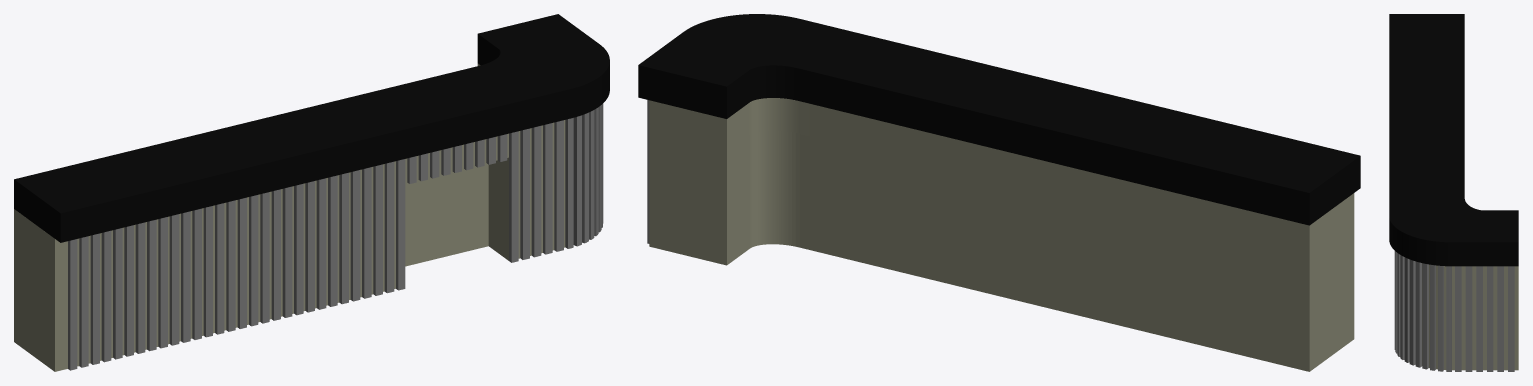
File: information desk _wheelchair space.FBX
3 renders of one model, left to right at view 1: azimuth 30°, elevation 25°; view 2: azimuth 150°, elevation 25°; view 3: azimuth 270°, elevation 25°, orthographic. The views are drawn at different scales.
Visible parts, largest first — view 1: Line221, Line222, Line220; view 2: Line220, Line222; view 3: Line222, Line221, Line220.
Part boxes in pixels (box(x1,y1,x2,y2)): Line221: box(68, 103, 603, 370); Line222: box(14, 14, 609, 242); Line220: box(14, 63, 565, 371); Line220: box(649, 98, 1354, 371); Line222: box(638, 14, 1360, 225); Line222: box(1389, 14, 1518, 266); Line221: box(1394, 251, 1514, 371); Line220: box(1422, 263, 1518, 370).
Size of the model in its own units: 4084 by 1100 by 978.
